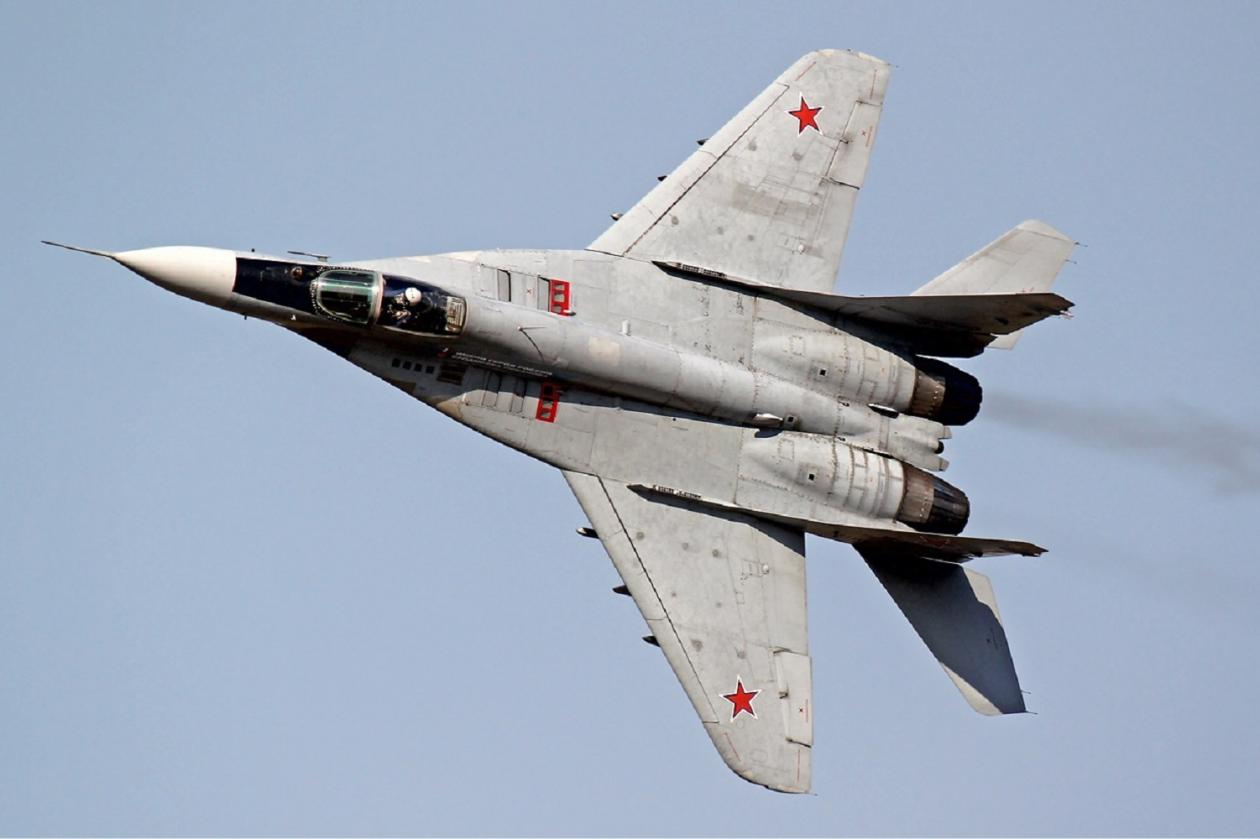Mig-29: (52, 26, 1141, 794)
